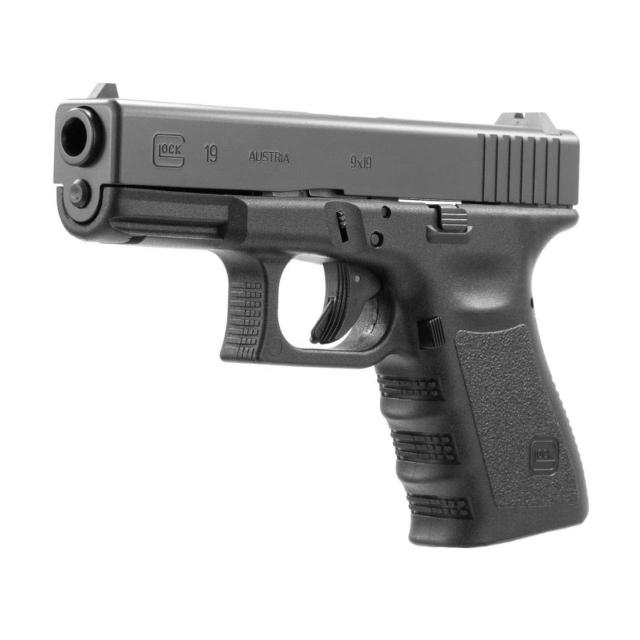Hand-Gun: (50, 70, 590, 592)
